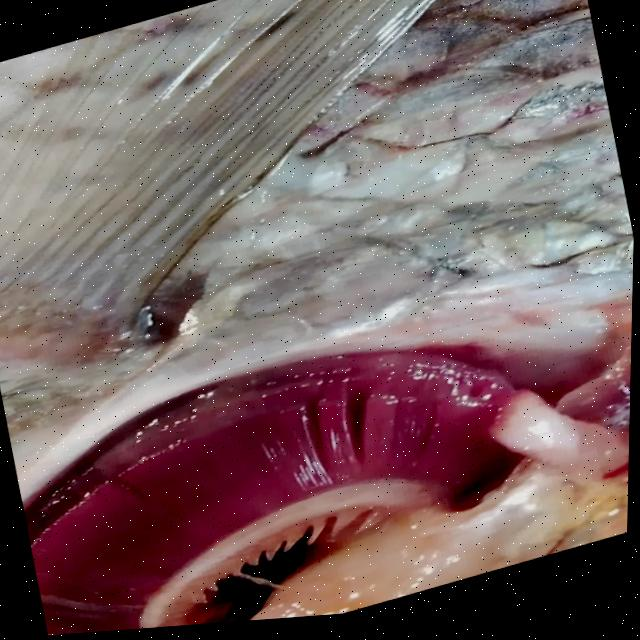Fresh: (1, 277, 549, 639)
